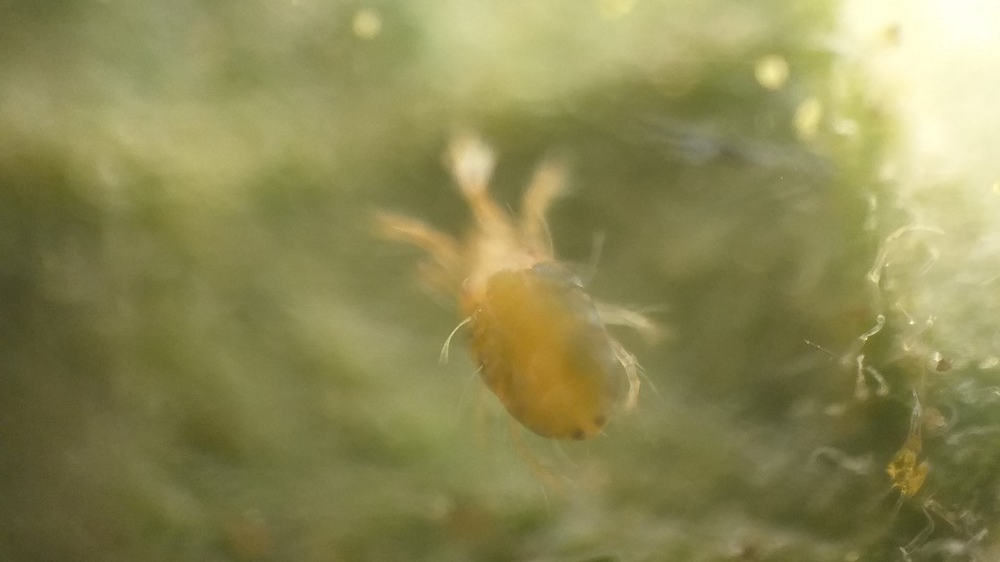Aracnido Rojo: (317, 68, 646, 432)
